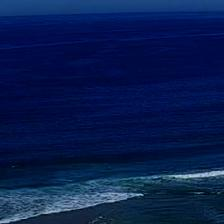surfer: (19, 162, 26, 166), (105, 164, 109, 168)
